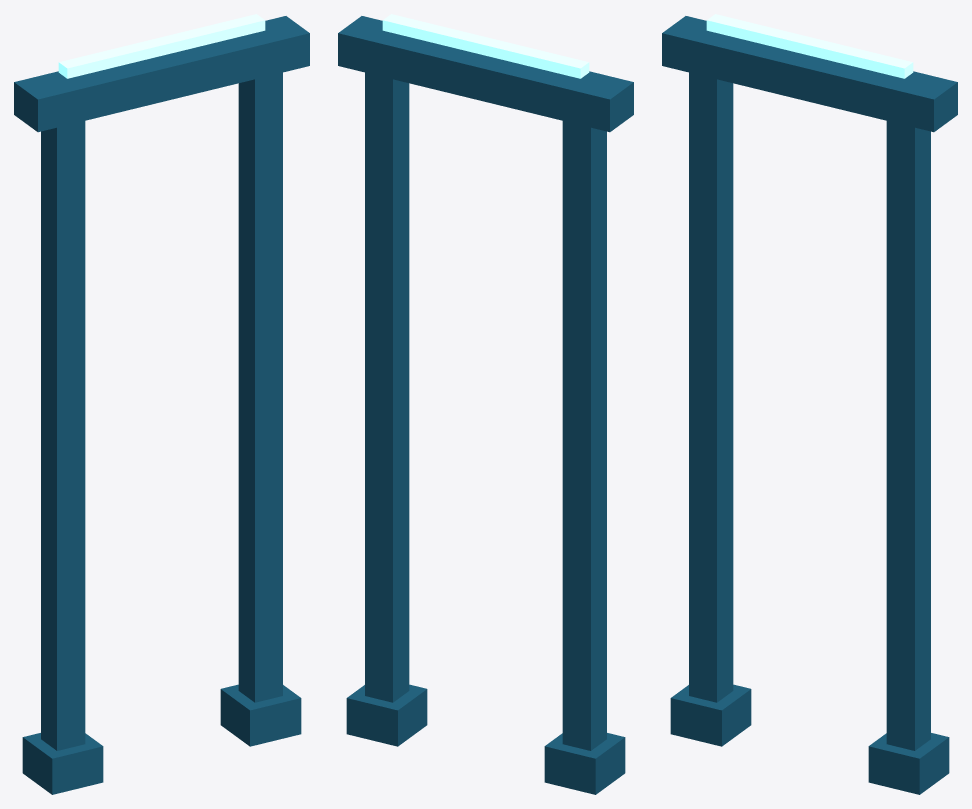
The model's file is lower-root-arch.glb.
3 renders of one model, left to right at view 1: azimuth 30°, elevation 25°; view 2: azimuth 150°, elevation 25°; view 3: azimuth 330°, elevation 25°, orthographic.
Bounding box in the file's own units: 4.8 × 12.03 × 0.9027.
